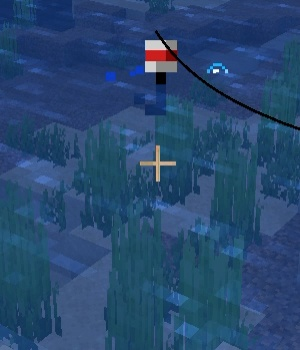up: (129, 40, 186, 122)
